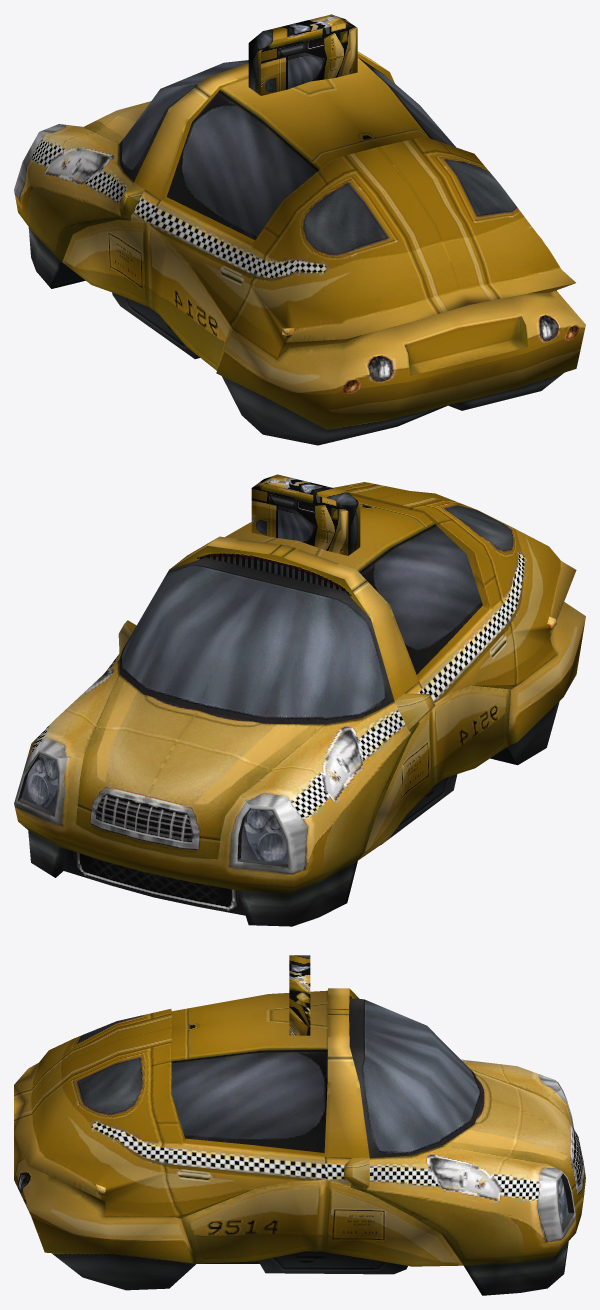
The model's file is taxi.glb.
3 renders of one model, top to bottom at view 1: azimuth 30°, elevation 25°; view 2: azimuth 150°, elevation 25°; view 3: azimuth 270°, elevation 25°, orthographic. The views are drawn at different scales.
Visible parts, largest first — view 1: __lithtech_lh_to_gltf_rh__; view 2: __lithtech_lh_to_gltf_rh__; view 3: __lithtech_lh_to_gltf_rh__.
Part boxes in pixels (box(x1,y1,x2,y2)): __lithtech_lh_to_gltf_rh__: box(14, 14, 585, 445); __lithtech_lh_to_gltf_rh__: box(14, 474, 585, 926); __lithtech_lh_to_gltf_rh__: box(14, 955, 585, 1295).
Bounding box in the file's own units: 145 × 134 × 265.
1 material, 1 textured.
